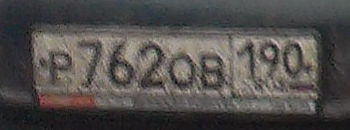character: (105, 33, 137, 87), (74, 36, 106, 88), (137, 40, 165, 89), (198, 48, 226, 92), (168, 50, 198, 90), (281, 35, 308, 78), (46, 47, 75, 86), (258, 36, 281, 79), (237, 35, 258, 78)
